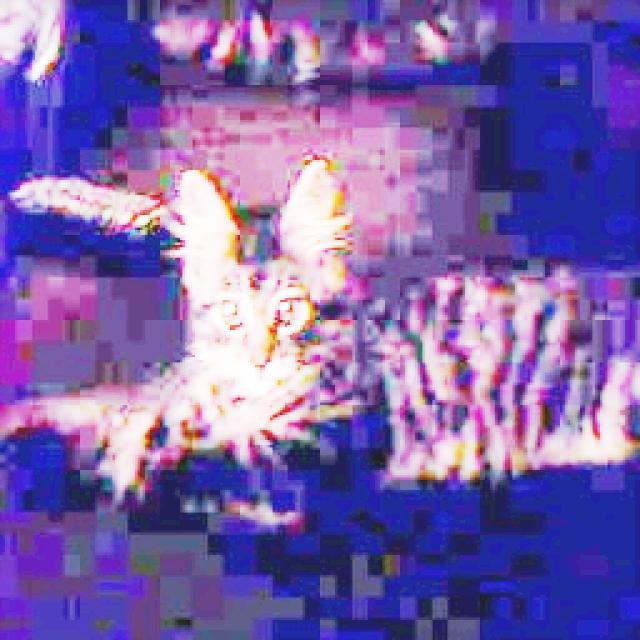cat: (141, 139, 640, 471)
